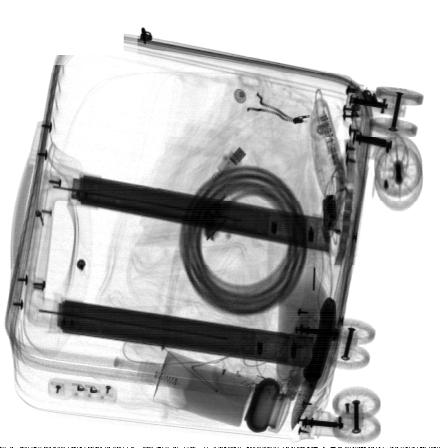Knife: (291, 298, 337, 432)
